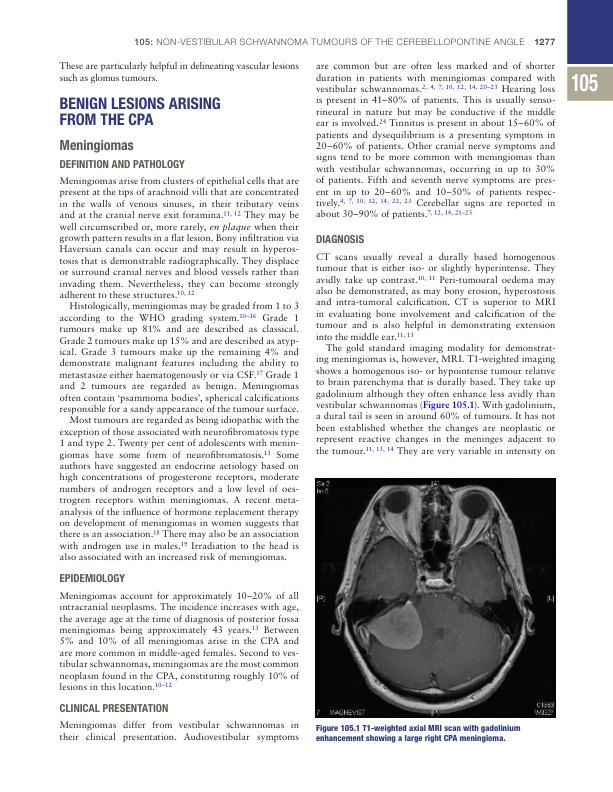caption: (314, 723, 522, 744)
header: (133, 37, 526, 46)
image: (314, 477, 557, 719)
section-heading: (57, 94, 223, 127)
sub-section-heading: (59, 159, 186, 169), (58, 703, 169, 714), (58, 139, 134, 154), (58, 572, 127, 583), (315, 234, 365, 245)
text: (57, 175, 300, 563), (314, 250, 557, 458), (314, 60, 557, 221), (58, 590, 301, 692), (58, 719, 300, 744), (58, 60, 300, 85)
